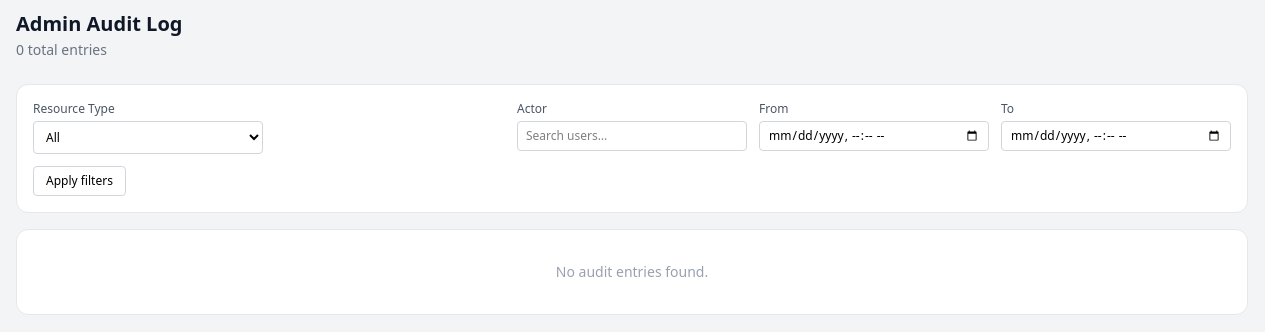
Test: AdminAuditPage › clears resource selection when resource type changes
The image size is (1265, 332).
# Select role type
Select "Role" in the dropdown showing "All" at (148, 138), box [33, 121, 263, 154]
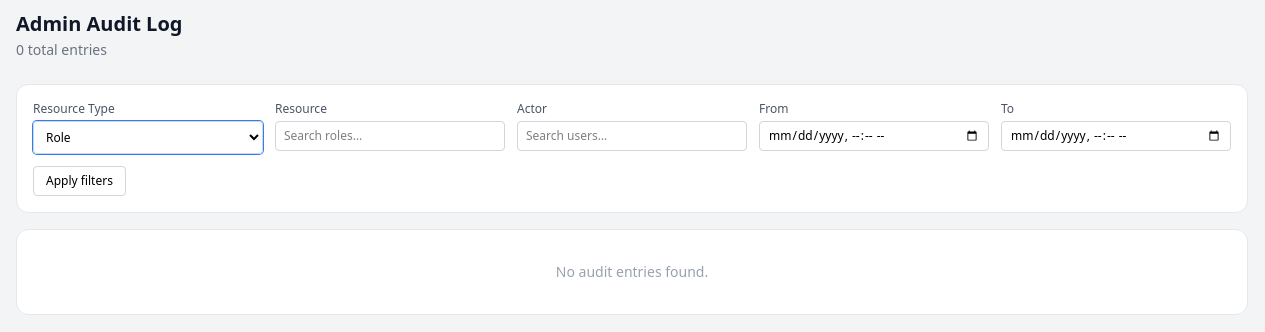
Now the dropdown with placeholder "Search roles…" is shown, box [275, 121, 505, 151]
# Change to policy type — resource field should reset to new placeholder
Select "Policy" in the dropdown showing "All" at (148, 138), box [33, 121, 263, 154]
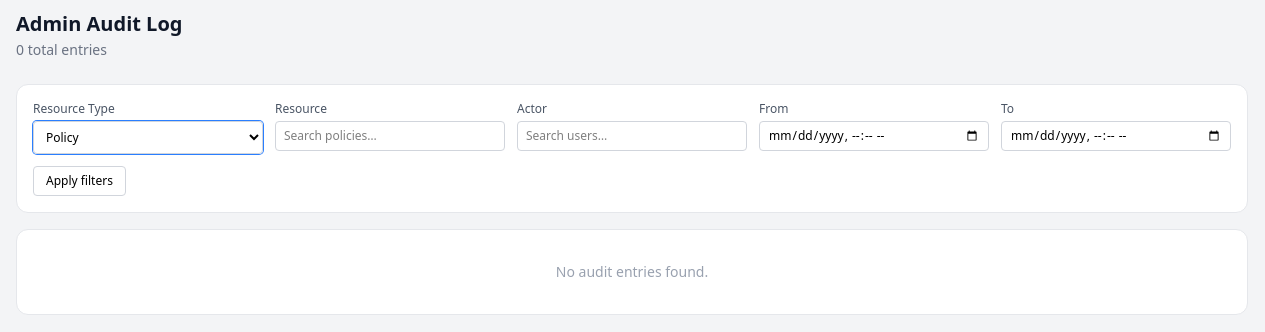
Expected: the field with placeholder "Search roles…" is not shown
Now the dropdown with placeholder "Search policies…" is shown, box [275, 121, 505, 151]
